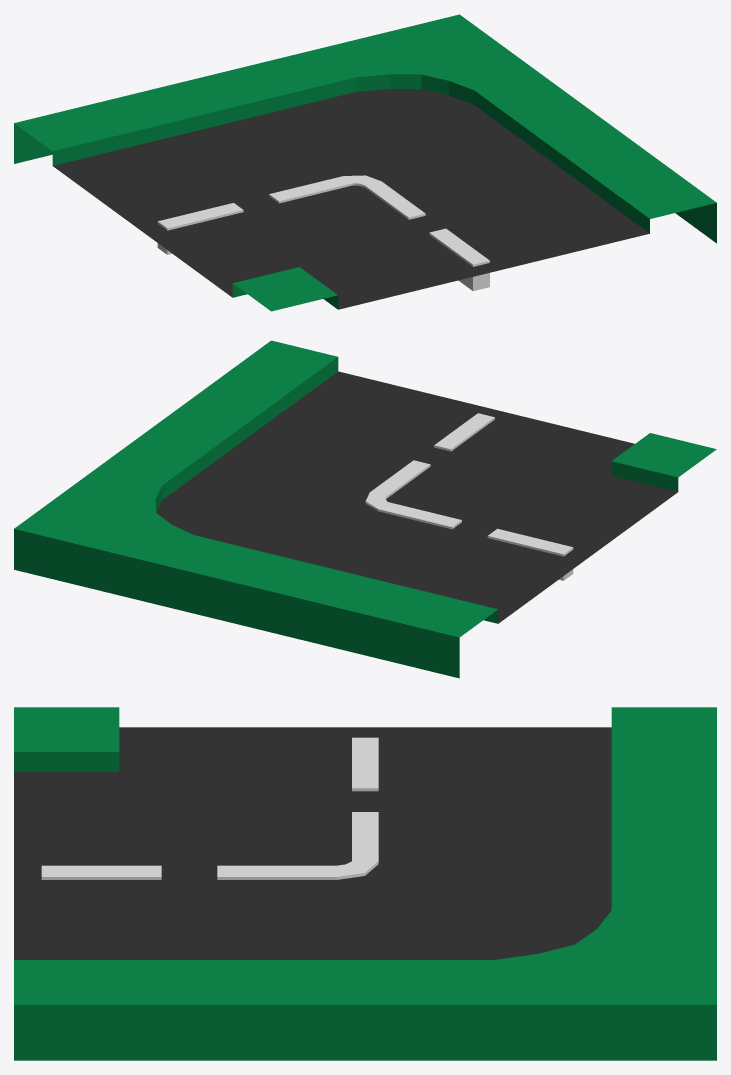
Rendered from Road_Corner.fbx.
The picture shows the model from 3 angles, top to bottom: view 1: azimuth 30°, elevation 25°; view 2: azimuth 150°, elevation 25°; view 3: azimuth 270°, elevation 25°; orthographic projection. The views are drawn at different scales.
Visible parts, largest first — view 1: Road_Corner; view 2: Road_Corner; view 3: Road_Corner.
Boxes of the visible parts, left/top/right/bottom form: Road_Corner: left=14, top=14, right=716, bottom=311; Road_Corner: left=14, top=340, right=716, bottom=678; Road_Corner: left=14, top=707, right=716, bottom=1060.
Size of the model in its own units: 96 by 8.42 by 96.
